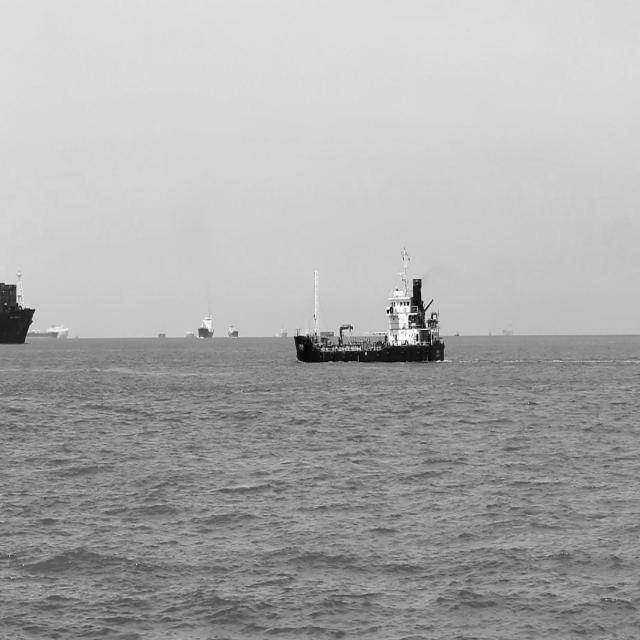ship: (292, 240, 448, 367), (0, 266, 36, 350), (28, 320, 70, 340), (198, 310, 217, 342), (273, 323, 290, 345), (500, 322, 518, 340), (227, 319, 240, 343), (185, 328, 198, 344), (156, 326, 168, 342)
